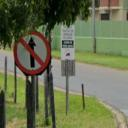NoSeguir: (12, 29, 50, 75)
